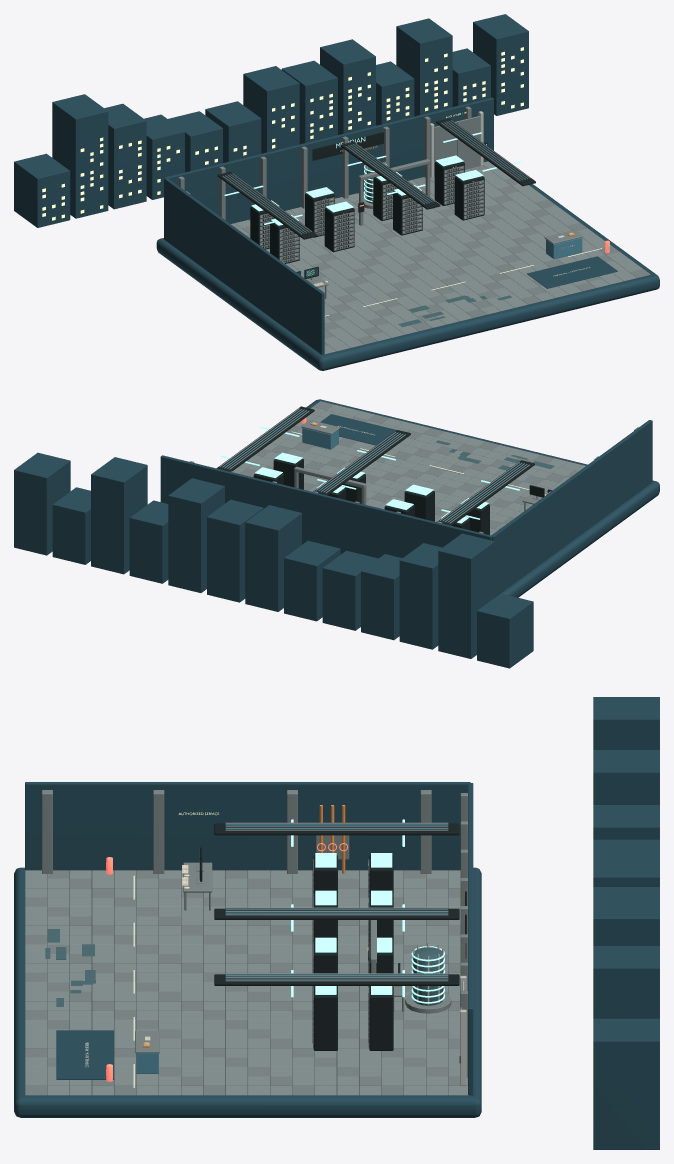
File: vault.glb
3 views of the same model, one above another, from view 1: azimuth 30°, elevation 25°; view 2: azimuth 150°, elevation 25°; view 3: azimuth 270°, elevation 25° (orthographic). The views are drawn at different scales.
Visible parts, largest first — view 1: navy_geometry, concrete_geometry, steel_geometry, black_geometry, amber_geometry, cyan_geometry, blue_geometry, chrome_geometry, glass_geometry; view 2: navy_geometry, concrete_geometry, steel_geometry, black_geometry, blue_geometry, cyan_geometry, glass_geometry; view 3: navy_geometry, concrete_geometry, steel_geometry, black_geometry, cyan_geometry, blue_geometry, Vault floor, glass_geometry, chrome_geometry, amber_geometry.
Part boxes in pixels (x1,y1,x2,y2): navy_geometry: [14, 14, 659, 370]; concrete_geometry: [231, 161, 642, 354]; steel_geometry: [178, 106, 650, 346]; black_geometry: [217, 118, 535, 278]; amber_geometry: [42, 47, 601, 316]; cyan_geometry: [224, 132, 521, 275]; blue_geometry: [225, 121, 582, 258]; chrome_geometry: [261, 111, 572, 259]; glass_geometry: [365, 165, 511, 327]; navy_geometry: [14, 399, 659, 668]; concrete_geometry: [233, 404, 585, 535]; steel_geometry: [189, 401, 638, 533]; black_geometry: [216, 406, 552, 534]; blue_geometry: [222, 409, 527, 522]; cyan_geometry: [220, 426, 519, 523]; glass_geometry: [435, 440, 554, 470]; navy_geometry: [14, 697, 659, 1149]; concrete_geometry: [25, 870, 468, 1095]; steel_geometry: [25, 790, 467, 1095]; black_geometry: [200, 823, 466, 1063]; cyan_geometry: [291, 819, 444, 1003]; blue_geometry: [136, 824, 448, 1073]; Vault floor: [47, 871, 448, 1094]; glass_geometry: [45, 929, 443, 1006]; chrome_geometry: [144, 861, 466, 1085]; amber_geometry: [133, 744, 592, 1140].
Bounding box in the file's own units: 36 × 7.97 × 29.
